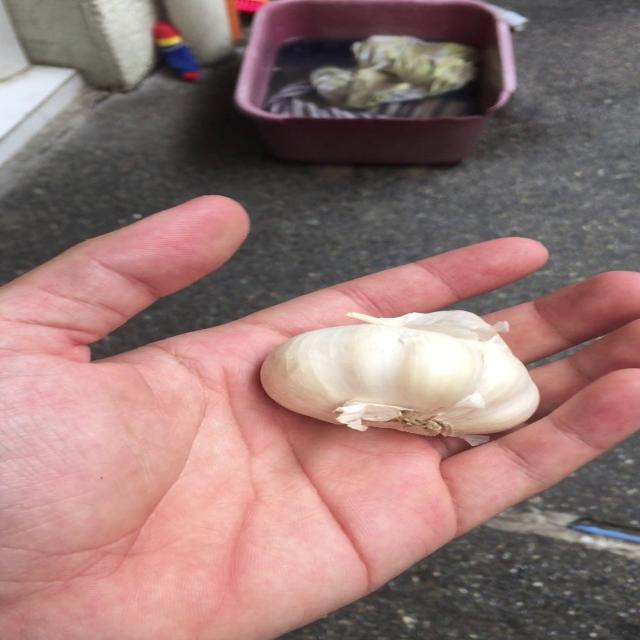garlic: (254, 306, 546, 450)
